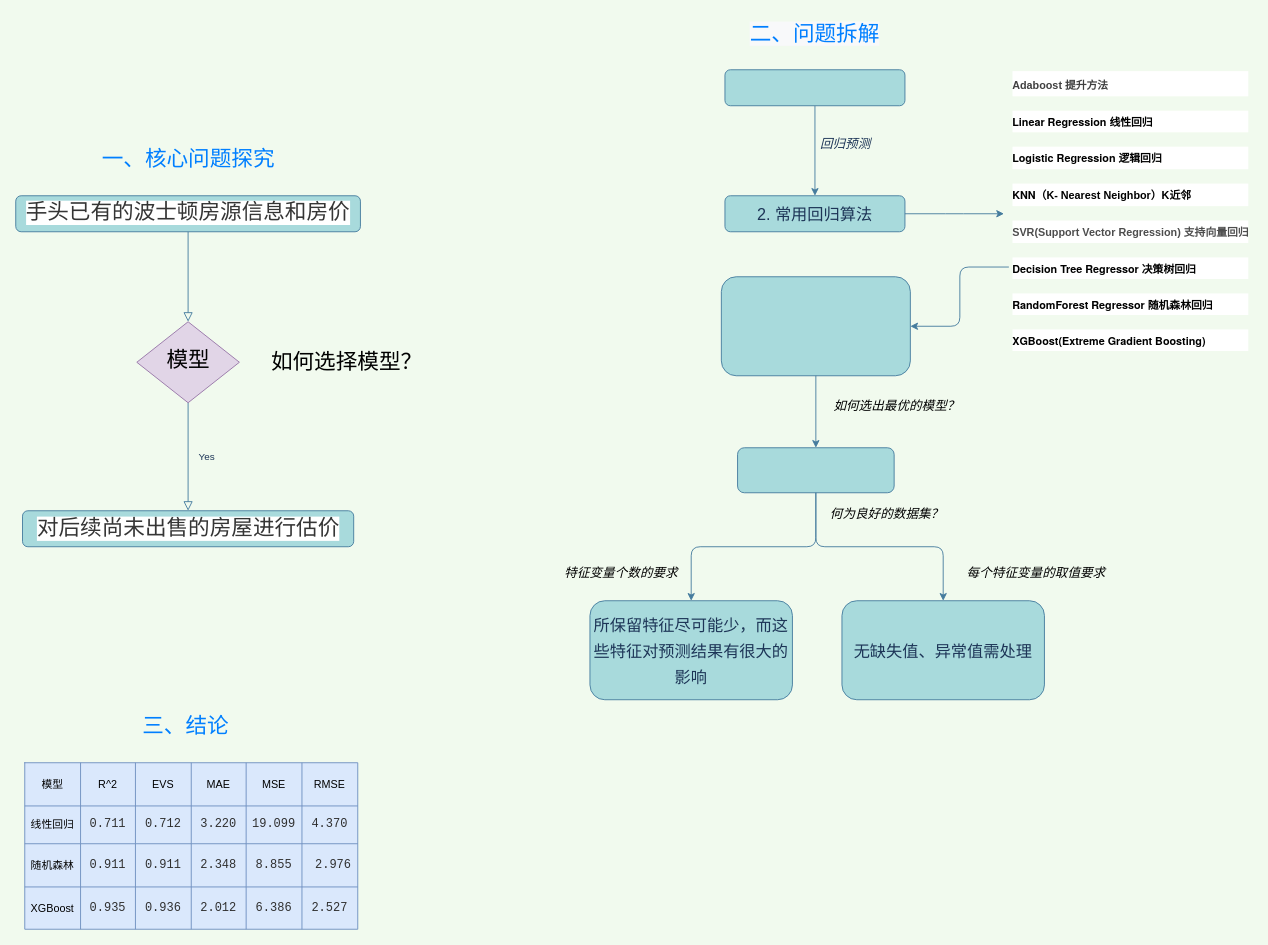
This 1268x945 diagram has some shape labels left out. Here are the shapes that lost their labels. From the top down, the box of each, then its label:
(724, 69, 905, 106): 1. 分析问题类型
(720, 276, 910, 376): 3. 该项目仅选取线性回归、随机森林、XGBoost这三个模型进行比较， 选出最优的模型
(737, 447, 894, 493): 4. 基于良好的数据集
